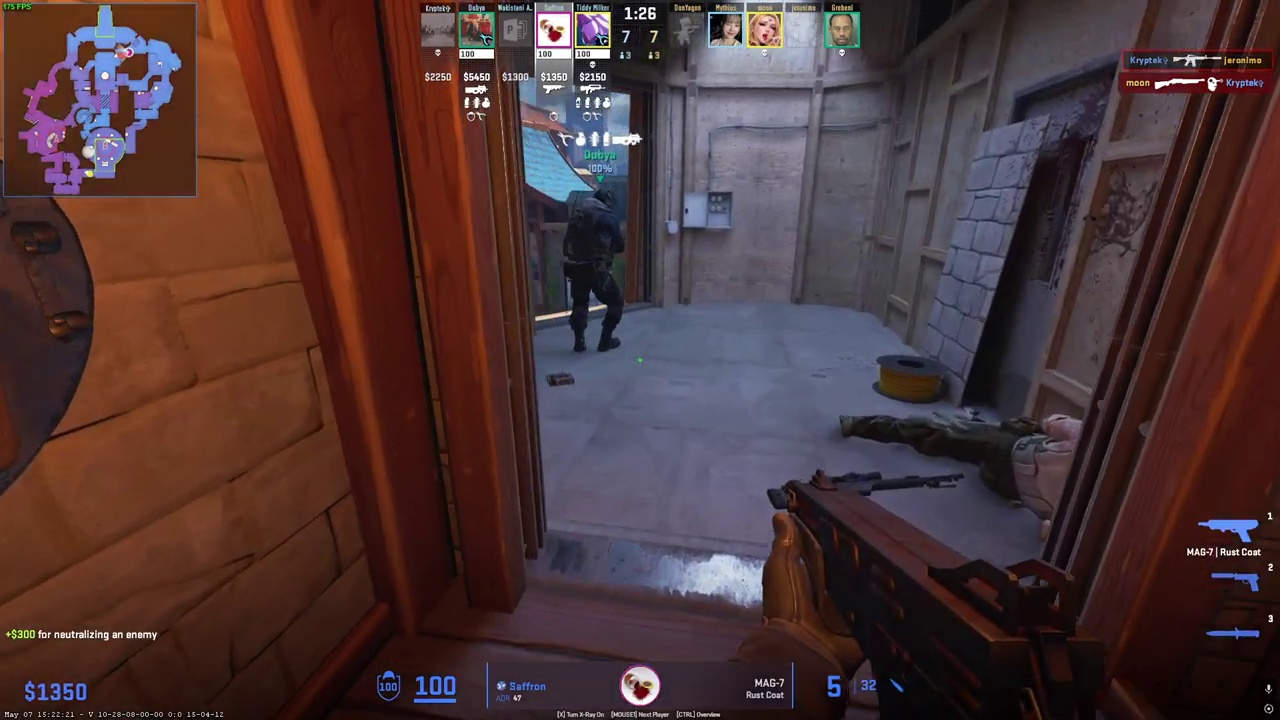CT: (562, 188, 626, 352)
